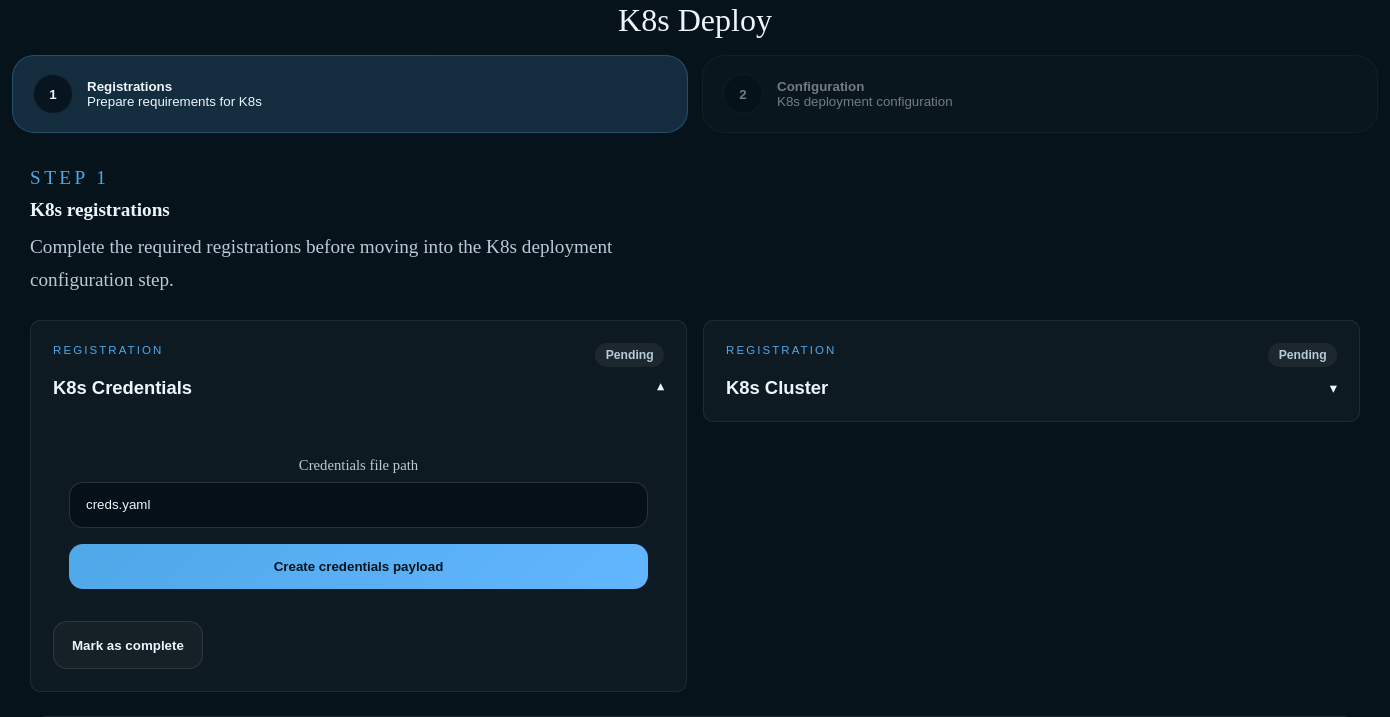
DeploymentPageComponent › K8s flow › keeps step 2 disabled until all K8s step 1 requirements are completed
Expected: the button "2 Configuration K8s deployment configuration" is disabled, [702,55,1378,133]
Click the button "Mark as complete" at (128, 645), box [53,621,203,669]
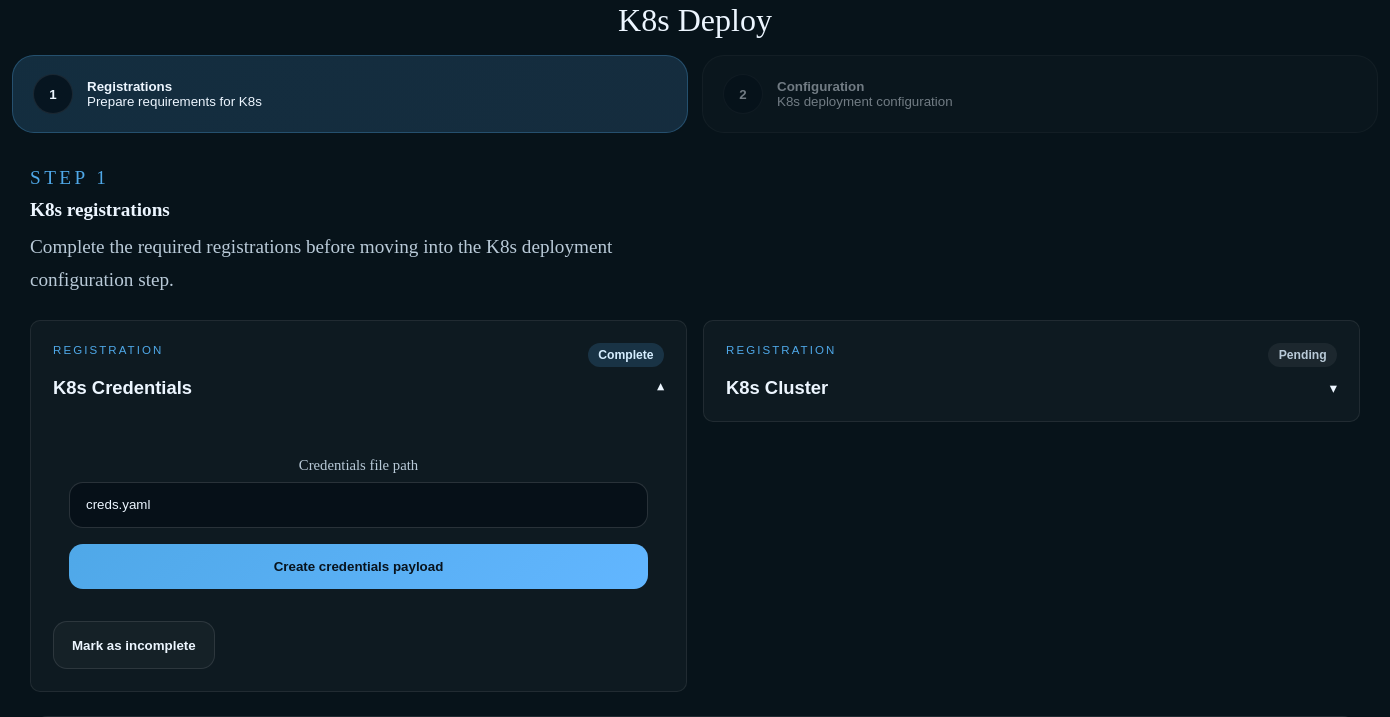
Click the 2nd button with class "deployment-page__requirement-toggle" at (781, 350), box [726,343,1337,399]
(page scrolled)
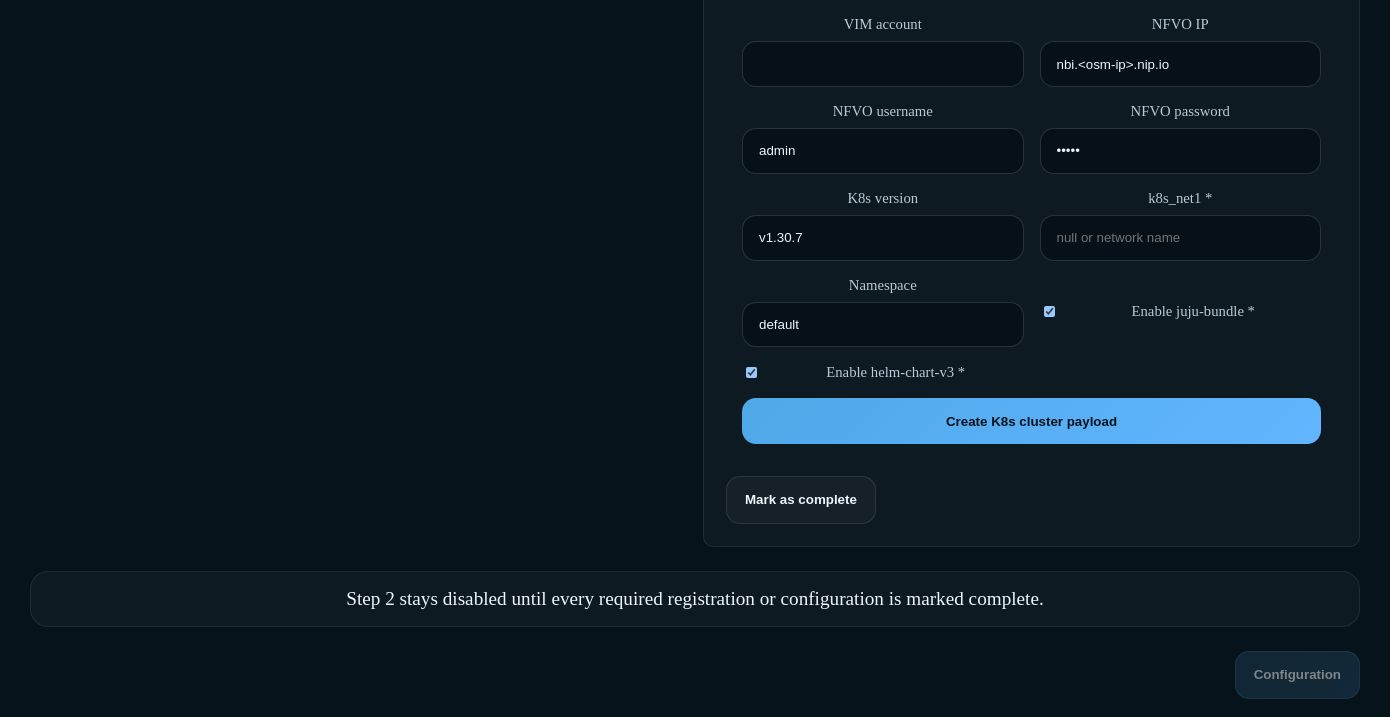
Click the button "Mark as complete" at (801, 500), box [726,476,876,524]
(page scrolled)
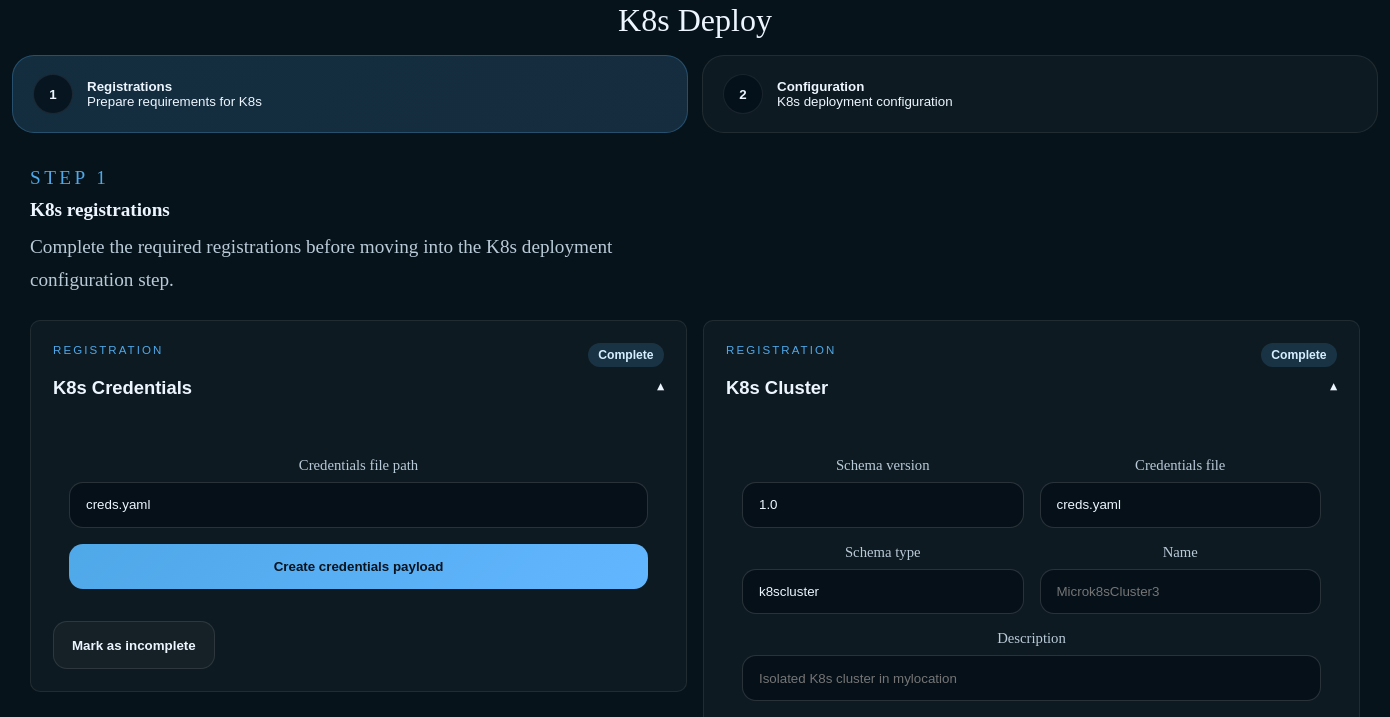
Now the button with class "deployment-page__step" that starts with "Configuration" is enabled, box [702,55,1378,133]
